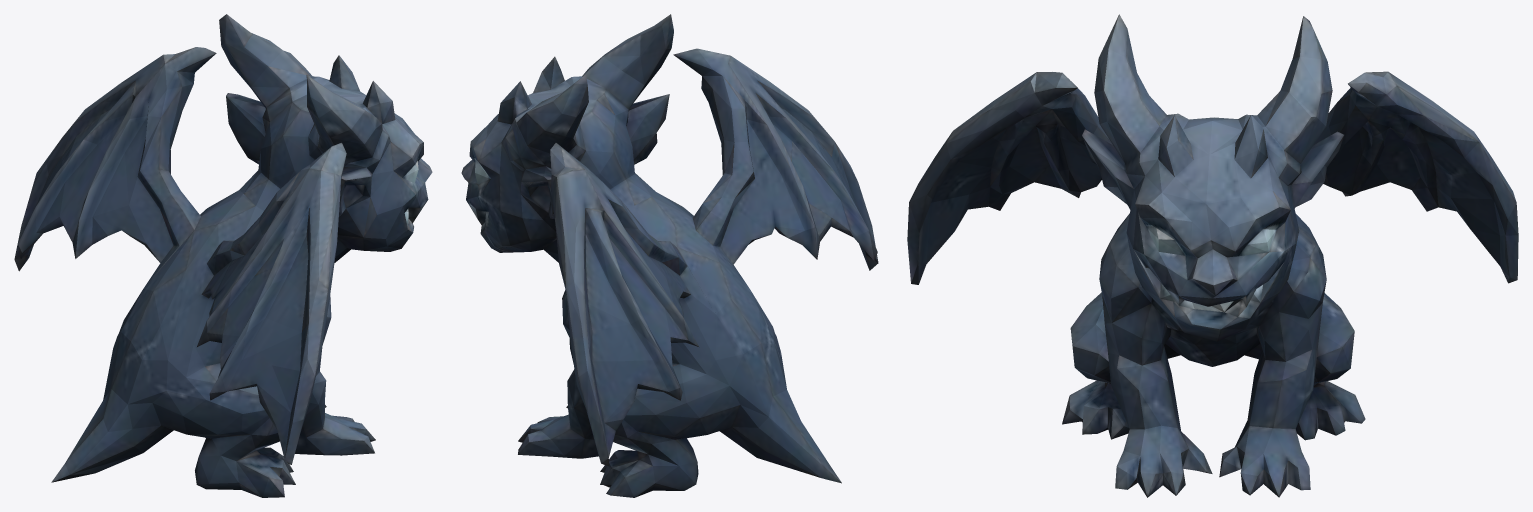
File: foe_gargoyleWhelp.glb
3 renders of one model, left to right at view 1: azimuth 30°, elevation 25°; view 2: azimuth 150°, elevation 25°; view 3: azimuth 270°, elevation 25°, orthographic. The views are drawn at different scales.
Parts seen in each view (by area): view 1: tripo_node_2c46b39a-0844-41e3-8ce7-4cdc6857bca5.001; view 2: tripo_node_2c46b39a-0844-41e3-8ce7-4cdc6857bca5.001; view 3: tripo_node_2c46b39a-0844-41e3-8ce7-4cdc6857bca5.001.
Part boxes in pixels (box(x1,y1,x2,y2)): tripo_node_2c46b39a-0844-41e3-8ce7-4cdc6857bca5.001: box(14, 14, 432, 497); tripo_node_2c46b39a-0844-41e3-8ce7-4cdc6857bca5.001: box(461, 14, 878, 497); tripo_node_2c46b39a-0844-41e3-8ce7-4cdc6857bca5.001: box(907, 14, 1518, 497).
Bounding box in the file's own units: 0.7959 × 0.7952 × 0.9986.
1 material, 1 textured.
